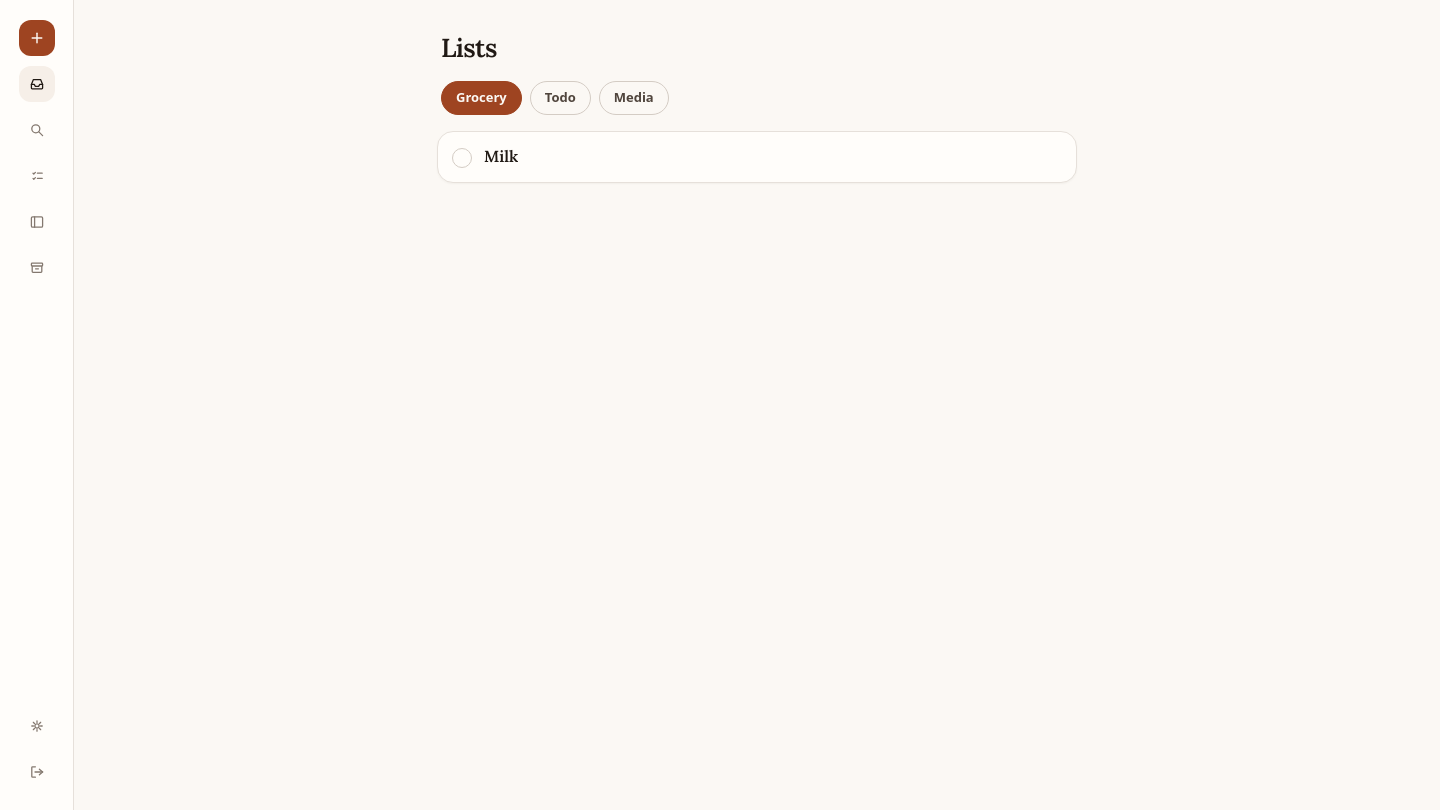
Test: Lists › switches tabs and fetches the new category
Expected: the text "Milk" is shown, [484,146,518,166]
Click the button "Todo": point(560, 98) [530,81,591,114]
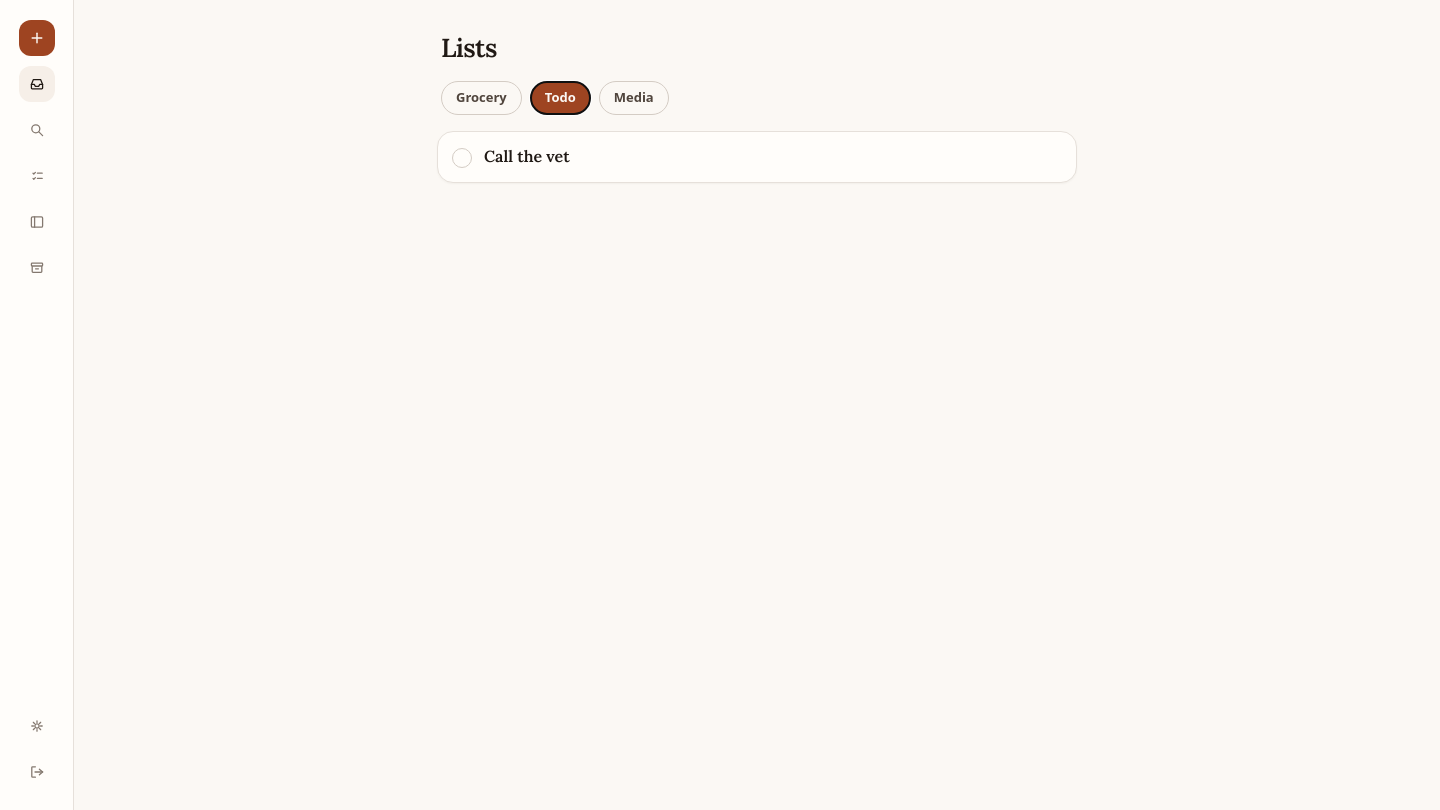
Now the text "Call the vet" is shown, box [484,146,570,166]
